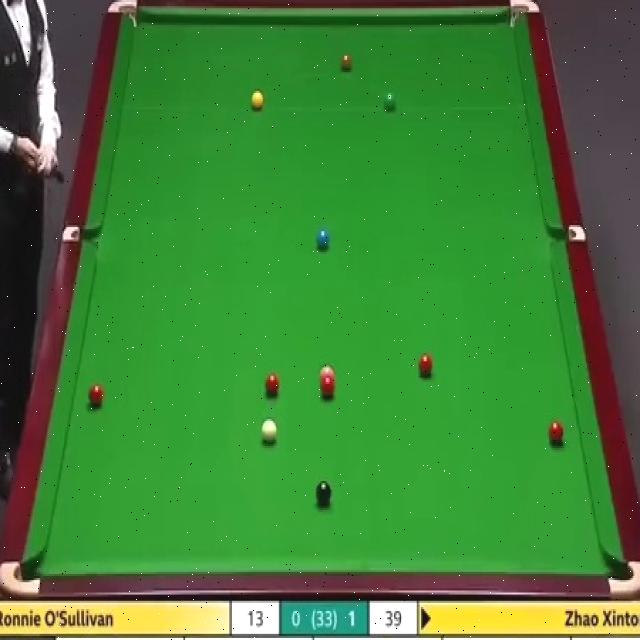black-ball: (316, 478, 332, 506)
blue-ball: (316, 227, 331, 250)
brown-ball: (340, 52, 352, 73)
green-ball: (383, 90, 396, 111)
pink-ball: (319, 366, 335, 380)
red-ball: (88, 381, 105, 409), (548, 422, 566, 445), (319, 377, 336, 398), (264, 374, 280, 396), (418, 353, 432, 378)
white-ball: (260, 418, 278, 444)
yellow-ball: (251, 89, 264, 110)
